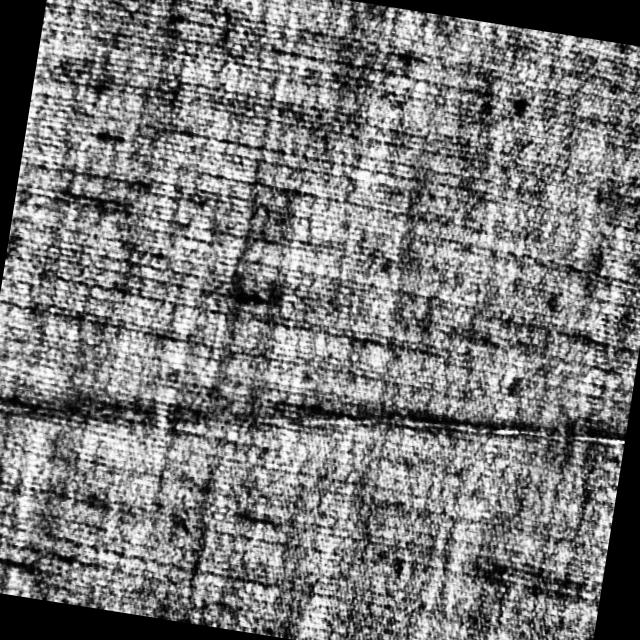gray stitch: (0, 332, 624, 515)
